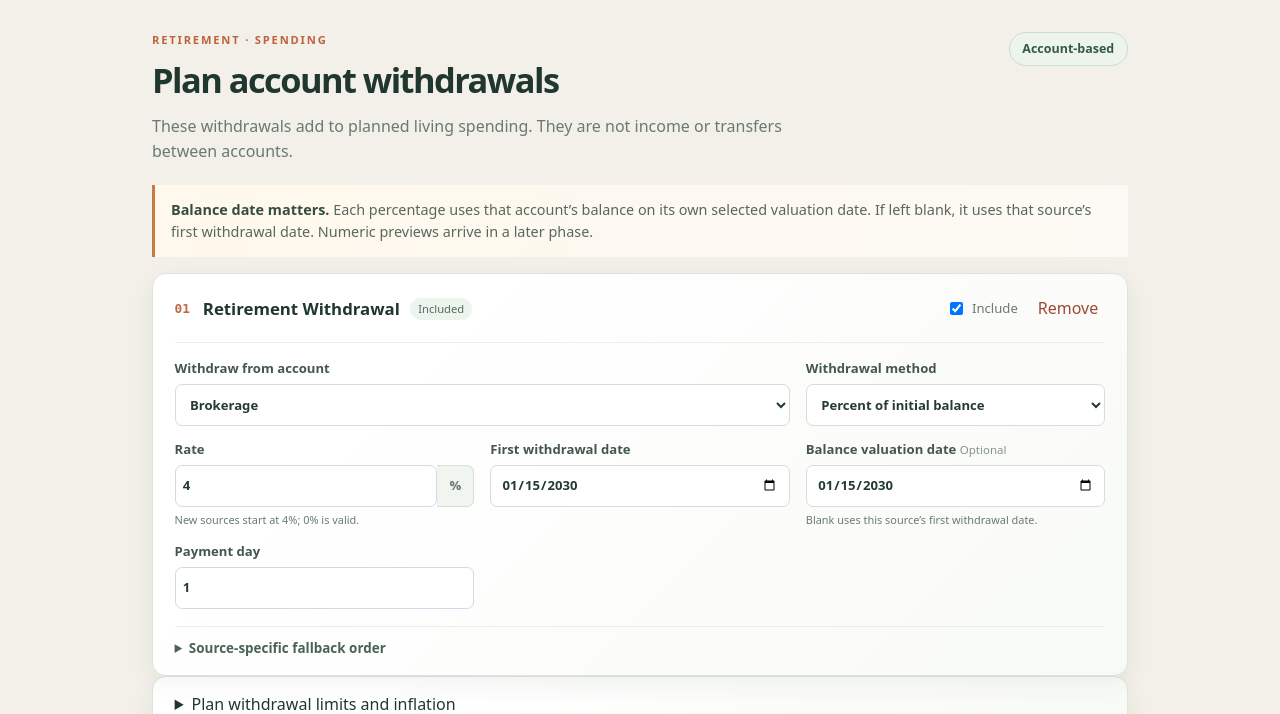
Test case: RetirementSpendingEditor › shows range errors and keeps invalid rate/day out of canonical plan
Replace the text in the number field named "Withdrawal rate" with "101": [306, 486] box [175, 465, 437, 507]
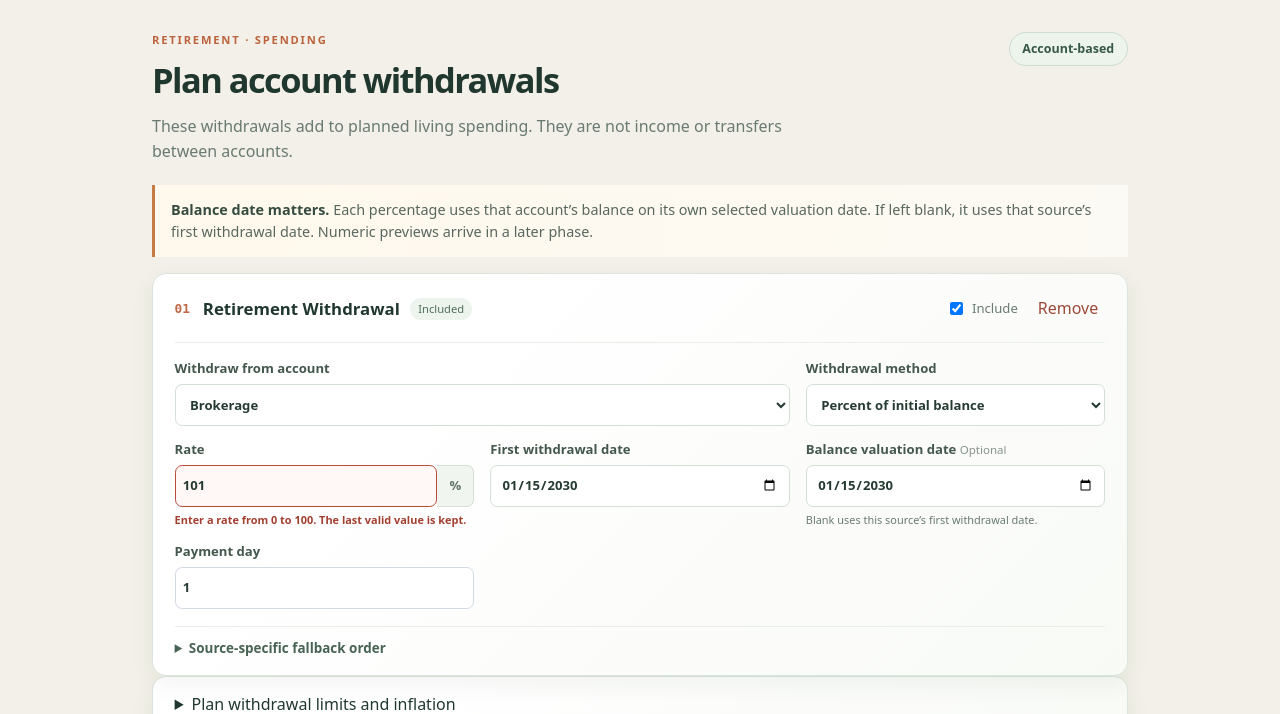
Expected: the message shows "0 to 100", [175, 512, 466, 527]
Replace the text in the number field labelled "Payment day" with "32": [324, 588] box [175, 567, 474, 609]
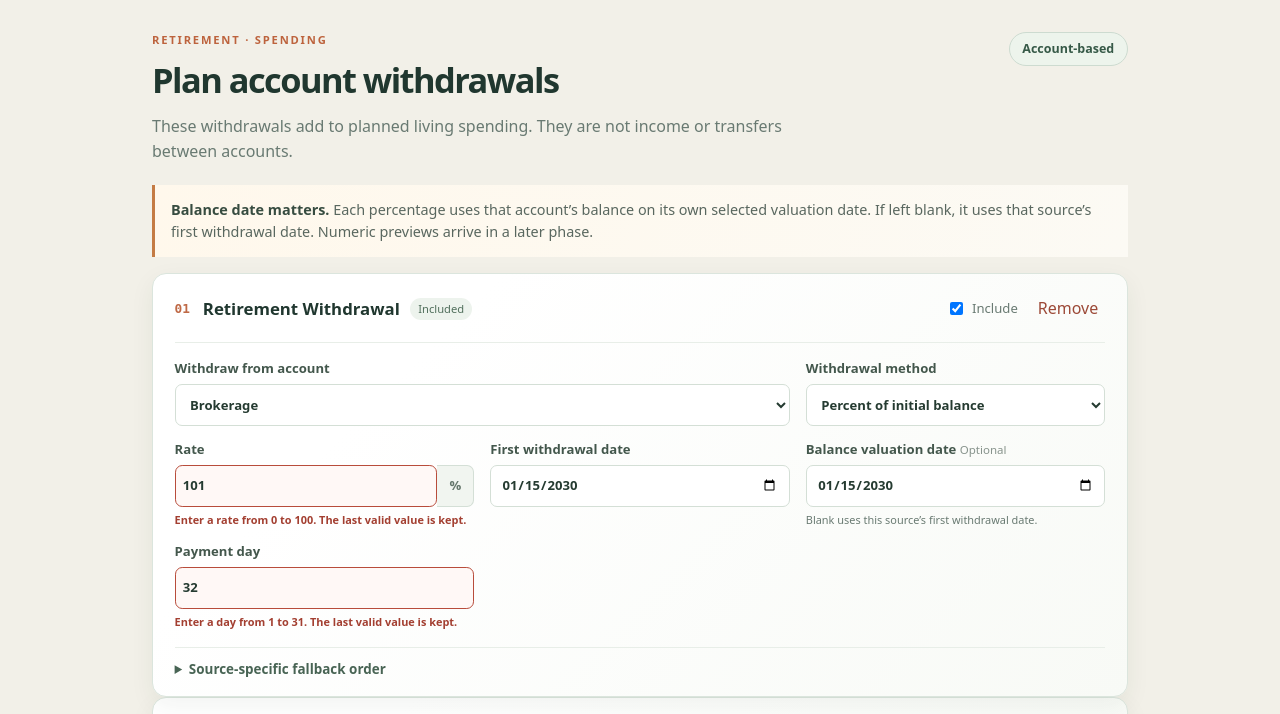
Expected: the message "Enter a day from 1 to 31. The last valid value is kept." is shown, [175, 614, 474, 630]
